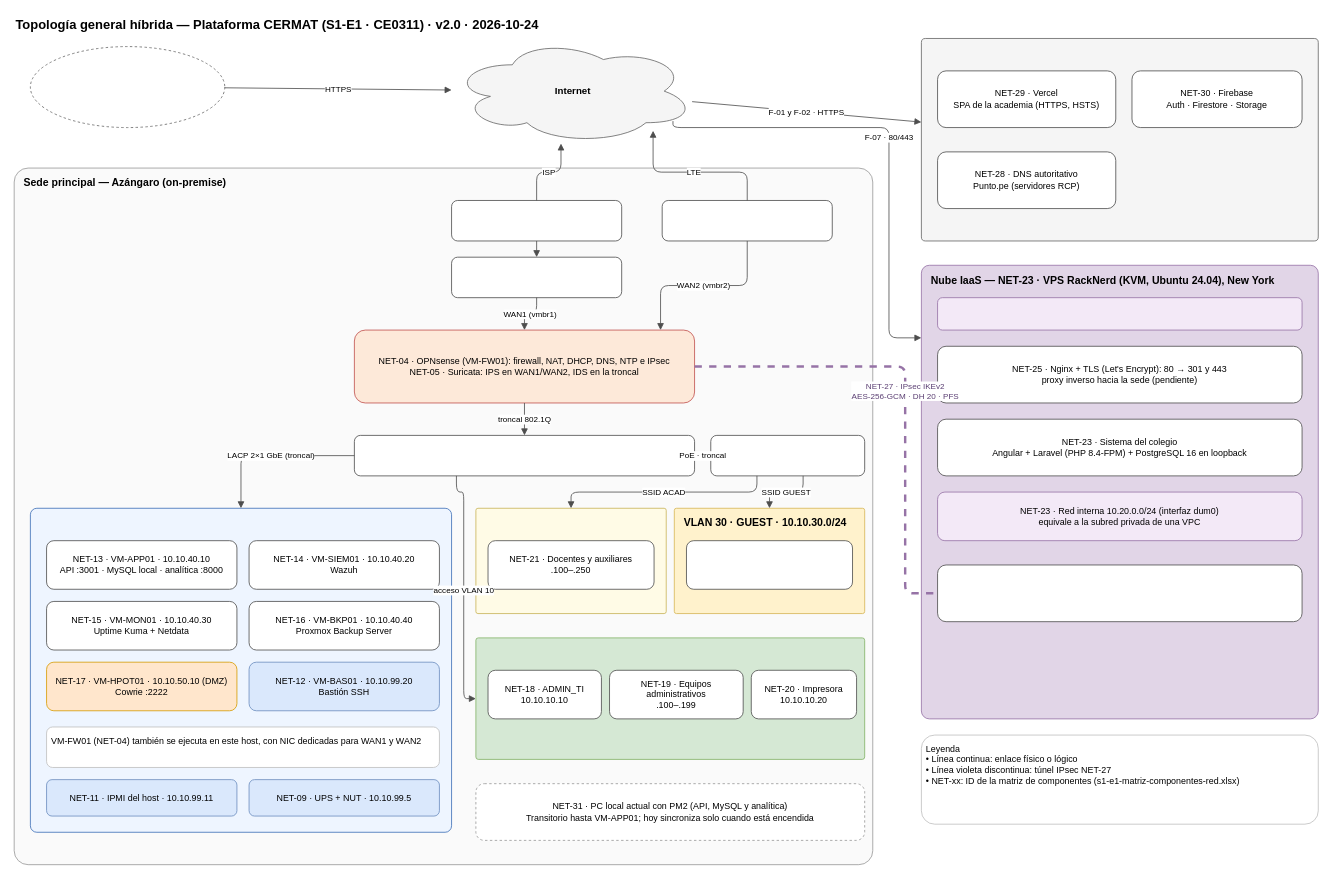
This 1332x879 diagram has some shape labels left out. The box of each missing label's shape, as (x1, y1, x2, y2) in pixels:
NET-01 · Fibra (ISP principal): (451, 200, 622, 241)
NET-02 · ONT en modo puente: (451, 256, 622, 298)
NET-03 · Router 4G/LTE (WAN2): (661, 200, 832, 241)
NET-06 · Switch 24p PoE+ (802.1Q, LACP) · 10.10.99.2: (354, 435, 695, 476)
NET-07 / NET-08 · AP Wi-Fi 6 10.10.99.3 y 10.10.99.4: (710, 435, 865, 476)
NET-10 · Host Proxmox PVE01 (gestión 10.10.99.10): (30, 507, 452, 832)
NET-22 · Invitados (aislados) .50–.250: (686, 540, 853, 589)
NET-24 · UFW: entrada denegada por defecto; 22, 80 y 443/tcp: (937, 297, 1302, 330)
NET-26 · strongSwan IKEv2 · UDP 500/4500 · 10.20.0.1: (937, 564, 1302, 622)
Nube PaaS: (921, 38, 1318, 241)
Usuarios externos (alumnos, padres, postulantes y personal remoto): (30, 46, 225, 128)
VLAN 10 · ADMIN · 10.10.10.0/24: (475, 637, 865, 759)
VLAN 20 · ACAD · 10.10.20.0/24: (475, 507, 666, 614)
